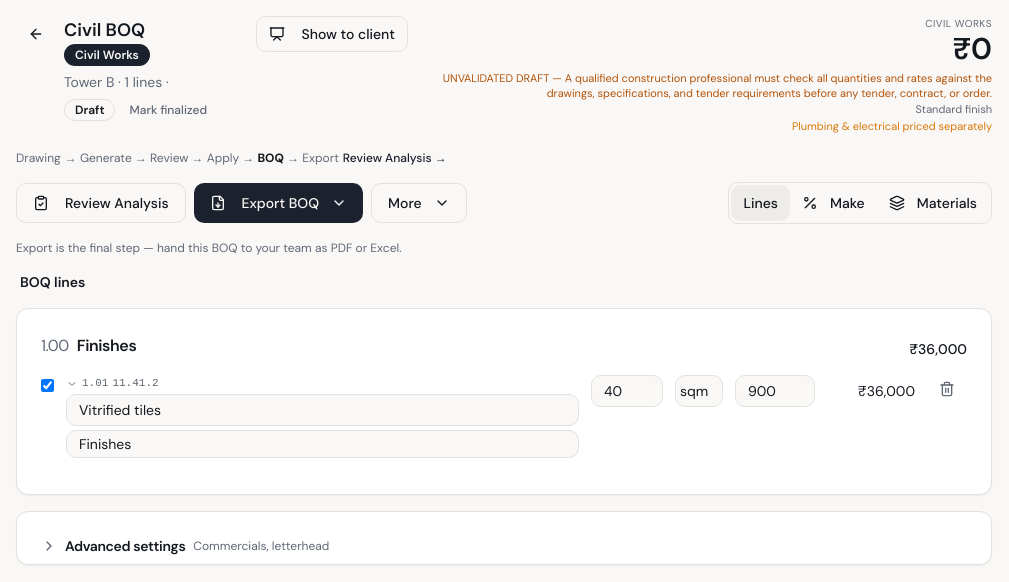
OpsBoqBuilder — edit safety › a refused rate edit does not stay in the field
The image size is (1009, 582).
Replace the text in the number field named "Rate for Vitrified tiles" with "1500": (775, 391) [735,375,815,407]
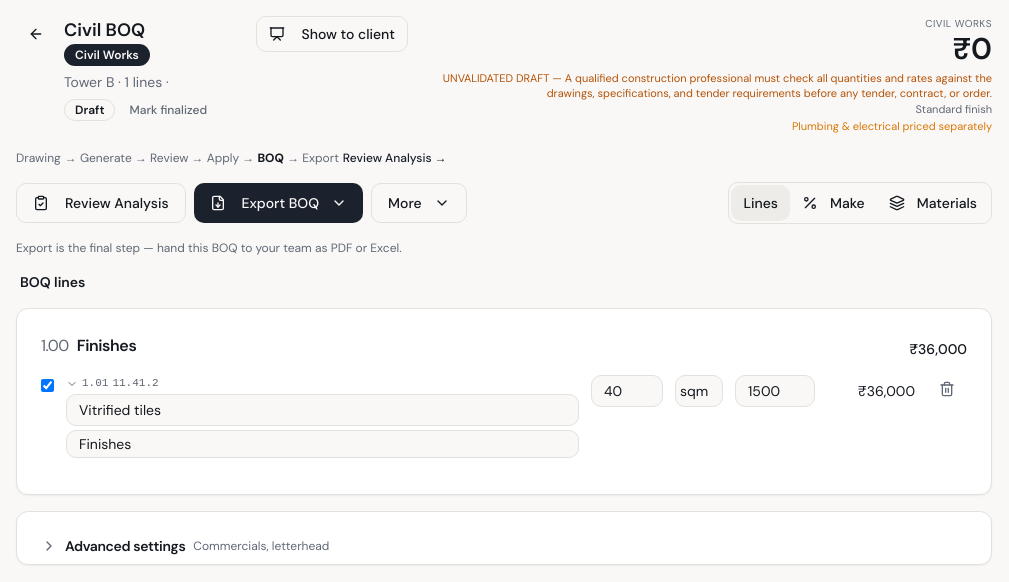
Leave the number field named "Rate for Vitrified tiles", box [735,375,815,407]
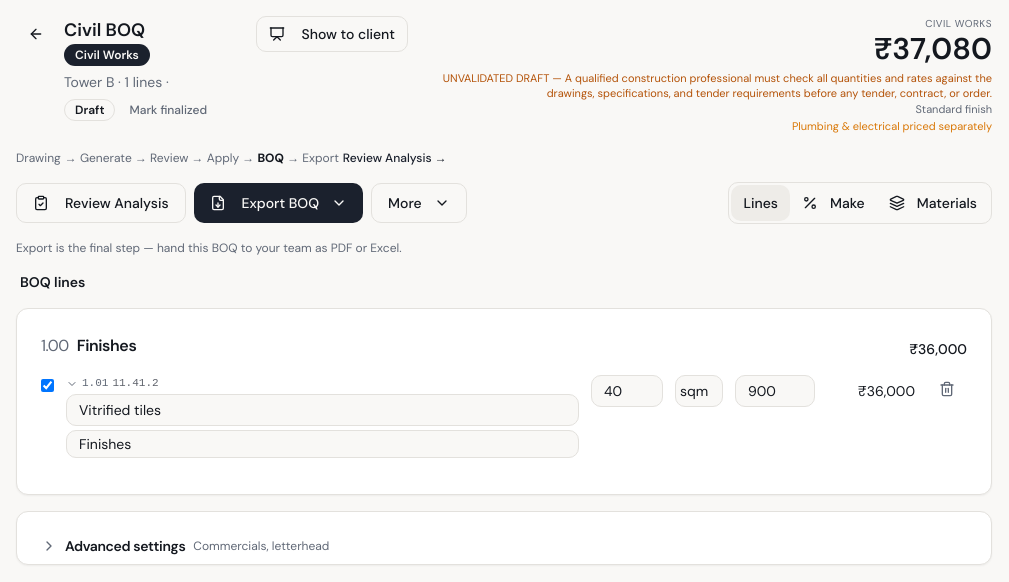
Check: the number field named "Rate for Vitrified tiles" holds "900", box [735,375,815,407]
